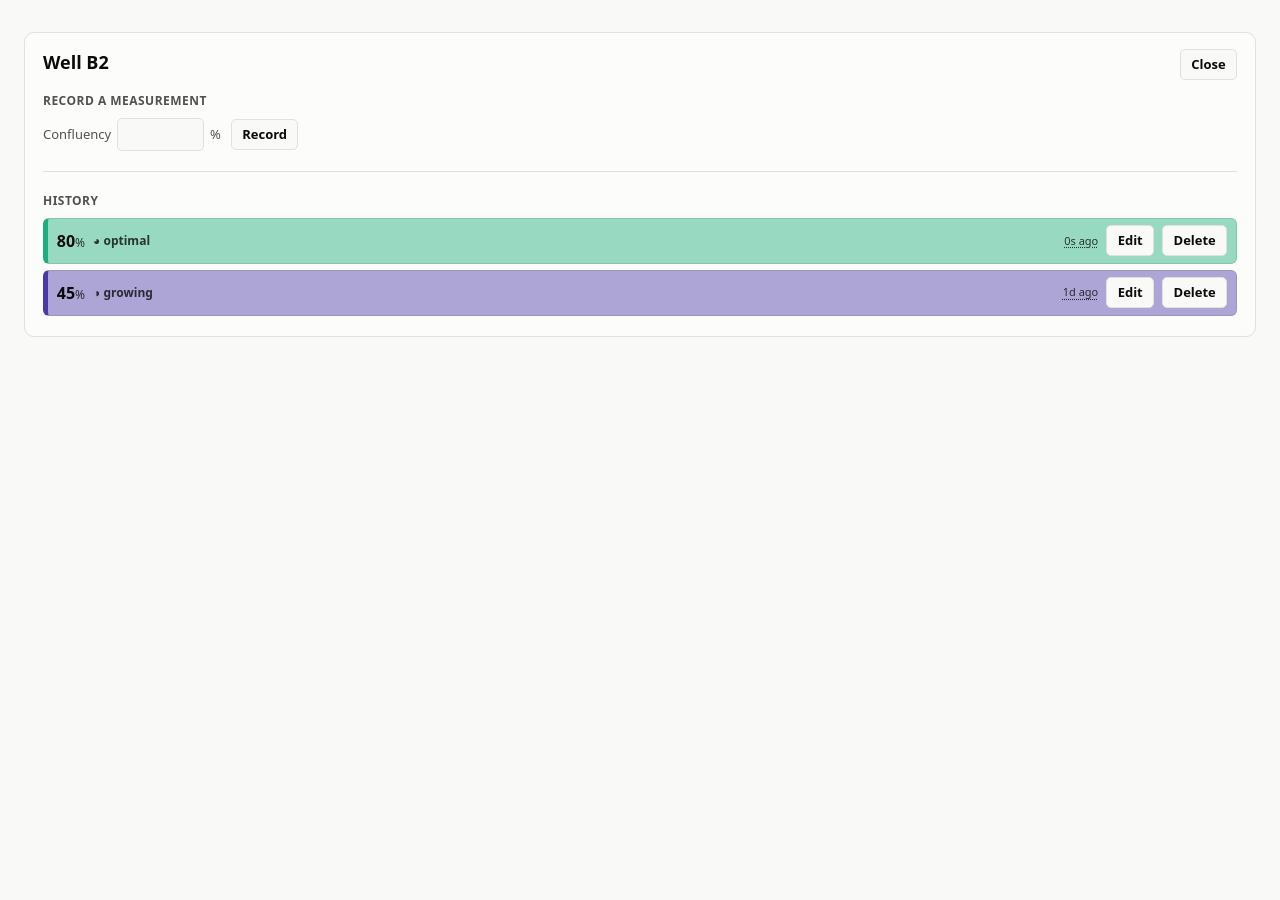
Test: WellPanel — deleting a measurement › closes an open confirm when a row goes into edit
Expected: the text "80" is shown, [57,230,75,252]
Click the button with aria-label "Delete reading".
click(1195, 241)  # box [1162,225,1227,256]
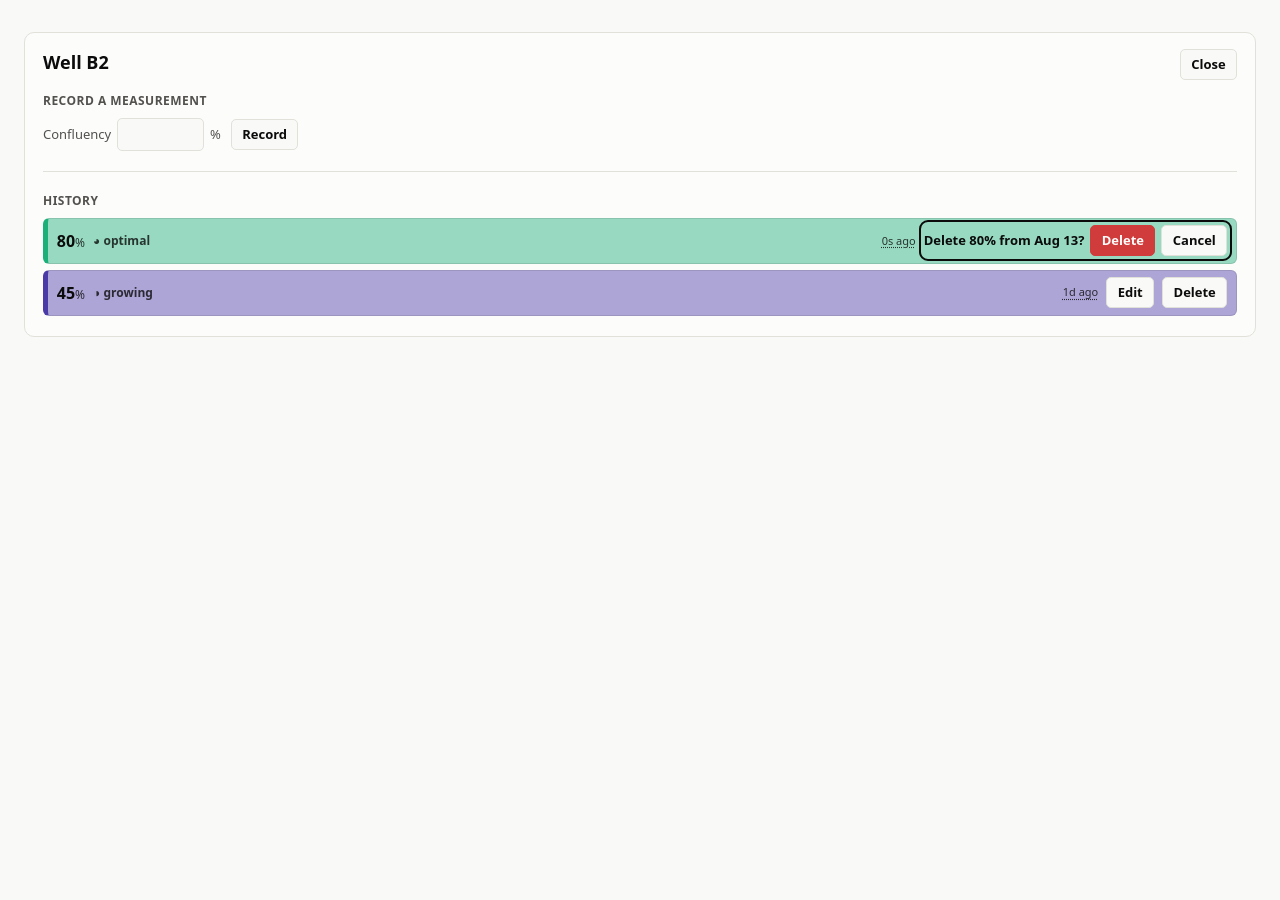
Click the button "Edit".
click(1130, 293)  # box [1106,277,1154,308]
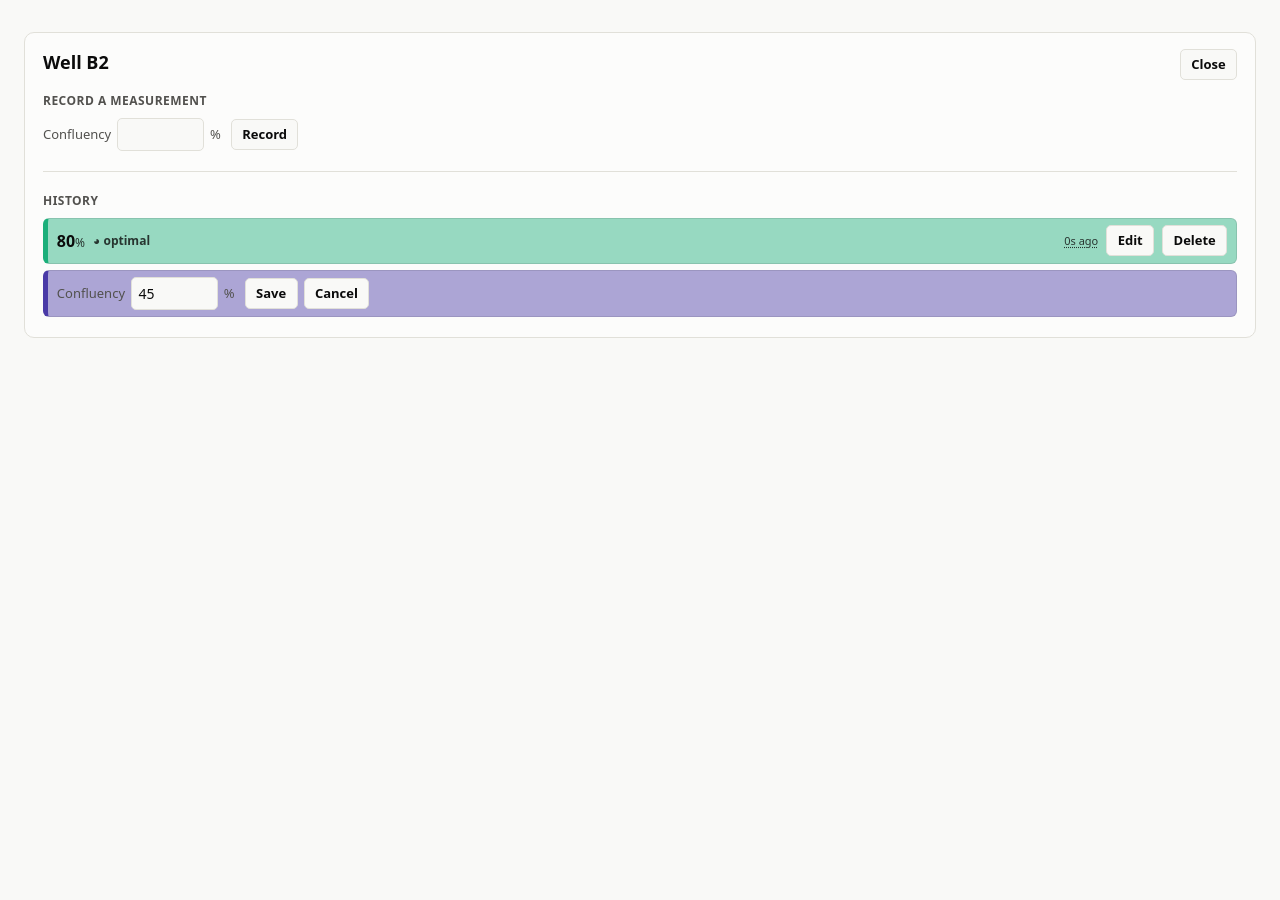
Now the dialog is gone
